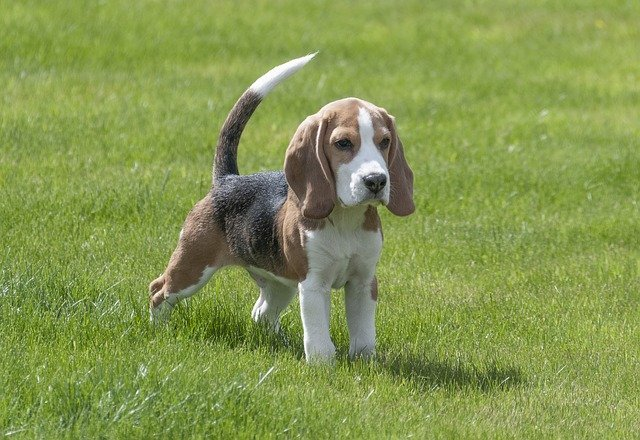dog: (142, 36, 419, 362)
